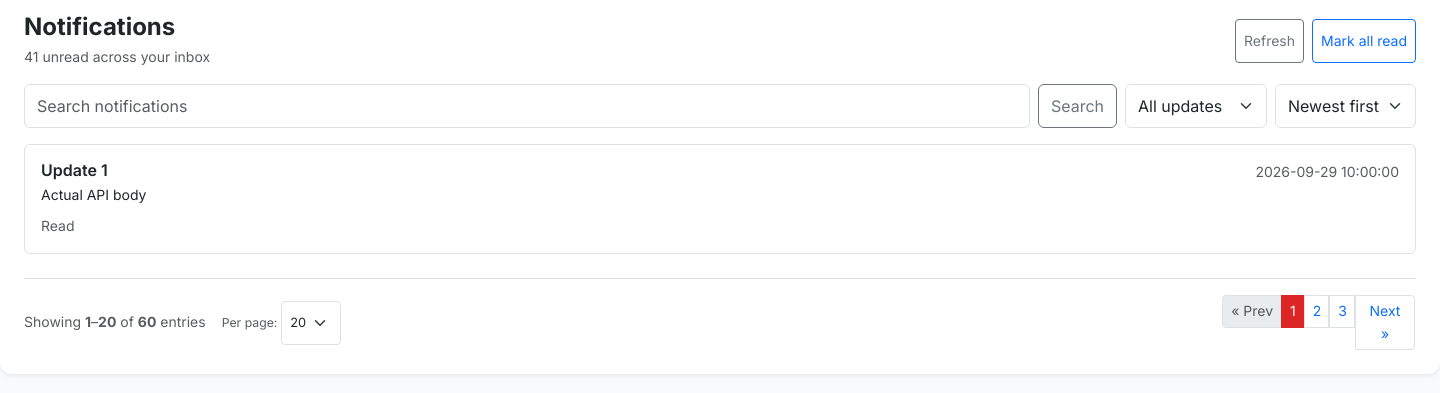
Test: requests the next server page and retains the envelope
What coordinates should you click on to do the following:
click the button named "Next"
I would click on:
 (1385, 323)
Its box is [1355,295,1415,350].
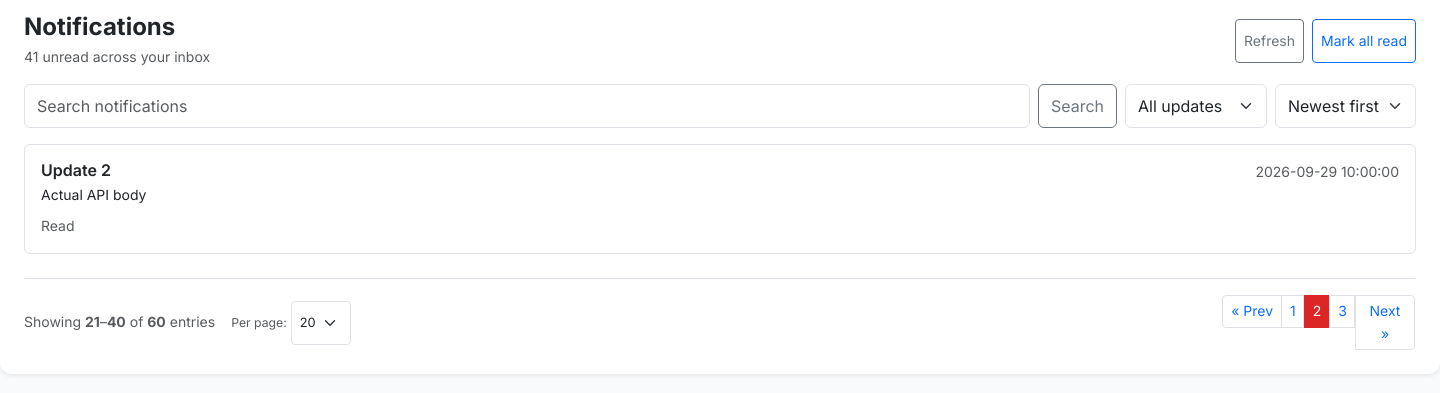
Expected: the button "2" is shown, [1304,295,1329,328]
Expected: the text "Update 2" is shown, [41,161,111,180]
